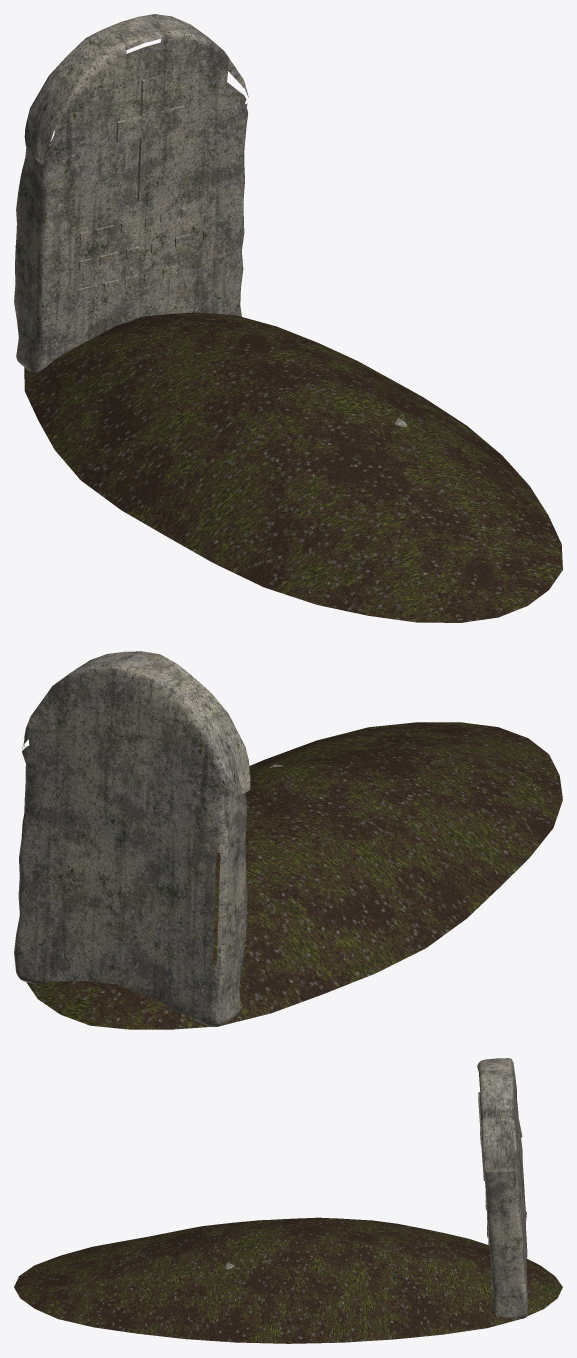
File: grave.glb
3 views of the same model, one above another, from view 1: azimuth 30°, elevation 25°; view 2: azimuth 150°, elevation 25°; view 3: azimuth 270°, elevation 25° (orthographic). The views are drawn at different scales.
Parts seen in each view (by area): view 1: grave; view 2: grave; view 3: grave.
Boxes of the visible parts, x1=… form: grave: x1=14, y1=14, x2=562, y2=622; grave: x1=14, y1=651, x2=562, y2=1029; grave: x1=14, y1=1058, x2=562, y2=1343.
Bounding box in the file's own units: 0.88 × 0.8069 × 1.8.
Materials: 2 (2 with a texture image).
